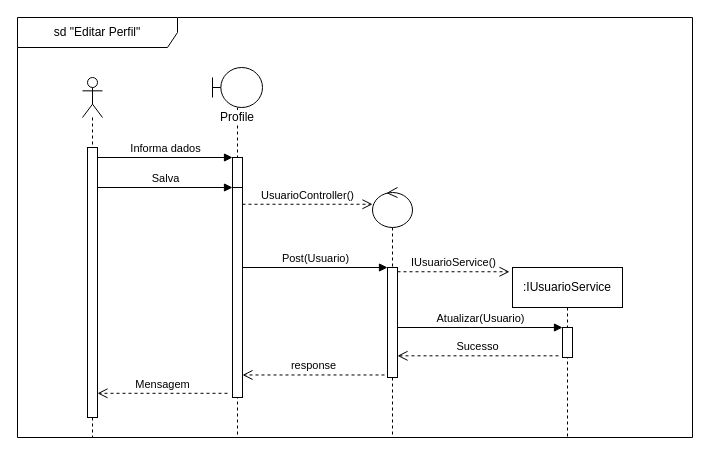
The diagram is 710 pixels wide and 455 high, and some of its shapes have lost their labels. Each missing label, with the box of its shape:
Usuario: (82, 76, 102, 438)
UsuarioController: (372, 186, 412, 438)
